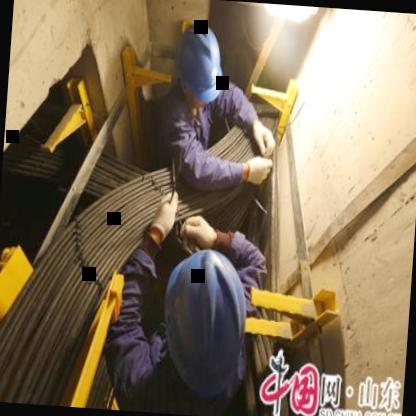helmet: (154, 243, 256, 405), (169, 22, 227, 119)
